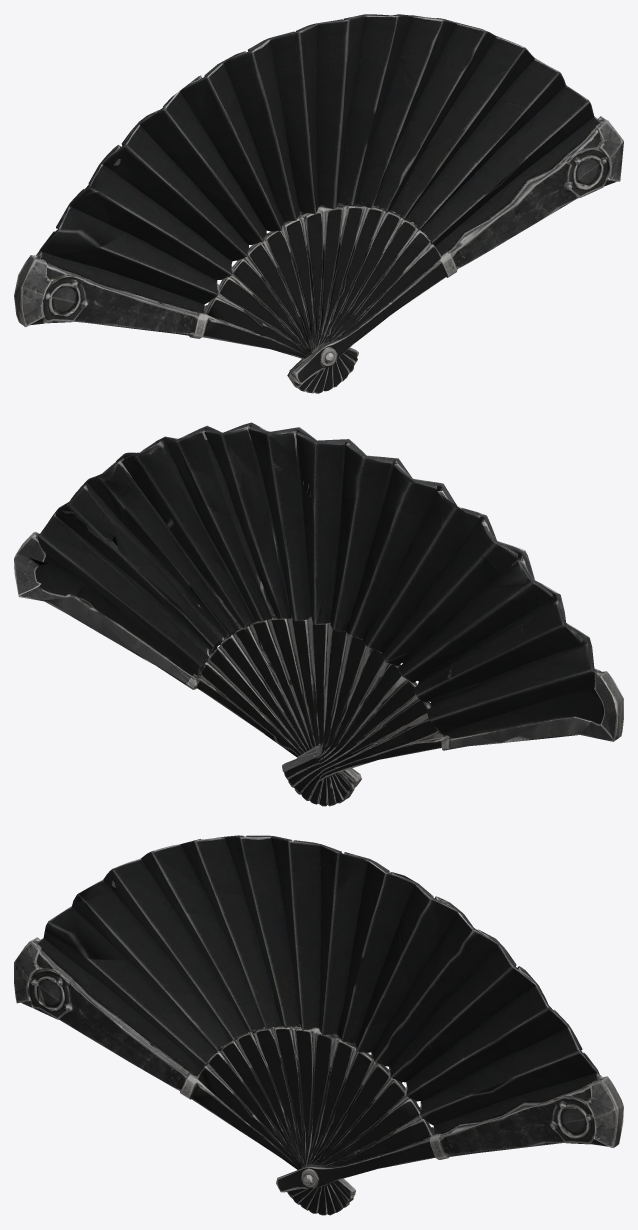
The model's file is eventail.glb.
The picture shows the model from 3 angles, top to bottom: view 1: azimuth 30°, elevation 25°; view 2: azimuth 150°, elevation 25°; view 3: azimuth 330°, elevation 25°; orthographic projection.
Visible parts, largest first — view 1: output_unwrapped; view 2: output_unwrapped; view 3: output_unwrapped.
Boxes of the visible parts, bbox=[...] form: output_unwrapped: bbox=[14, 14, 623, 393]; output_unwrapped: bbox=[14, 422, 623, 806]; output_unwrapped: bbox=[14, 835, 623, 1215].
Size of the model in its own units: 0.52 by 0.3038 by 0.0252.
Materials: 1 (1 with a texture image).
